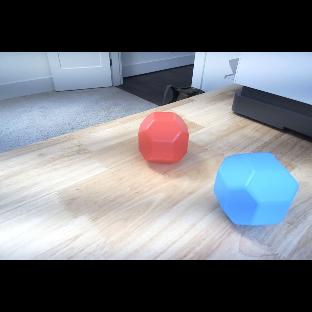V5_BLUE: (212, 152, 299, 231)
V5_RED: (139, 111, 189, 166)
